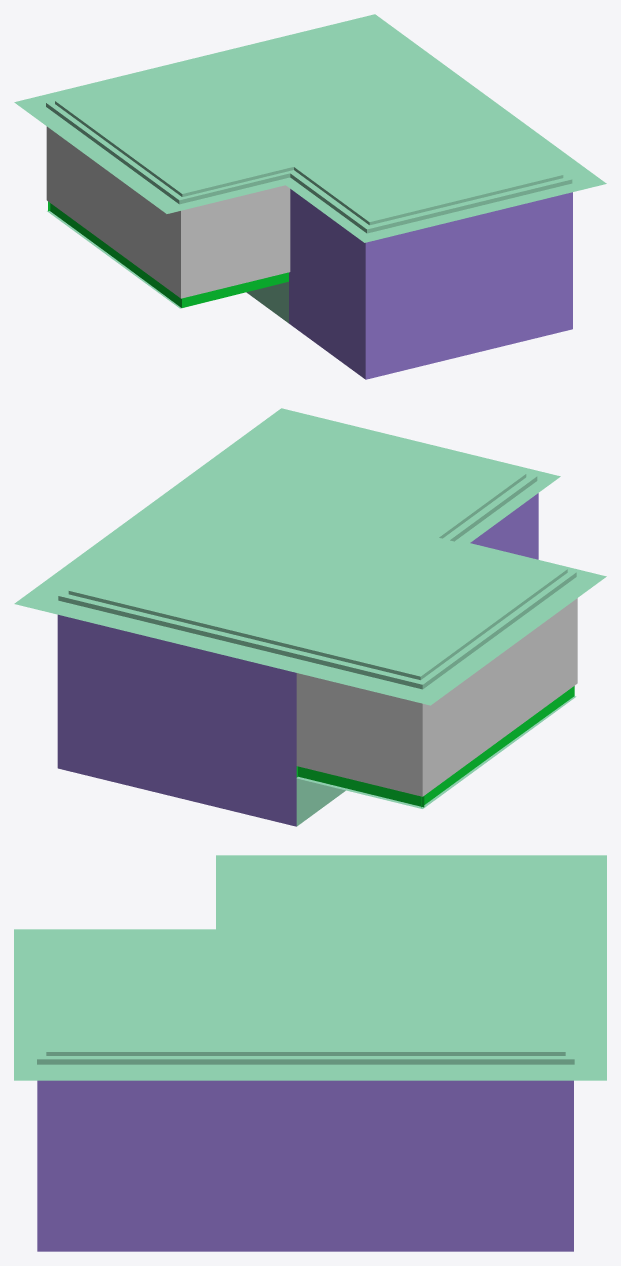
The model's file is piece.fbx.
3 views of the same model, one above another, from view 1: azimuth 30°, elevation 25°; view 2: azimuth 150°, elevation 25°; view 3: azimuth 270°, elevation 25° (orthographic). The views are drawn at different scales.
Parts seen in each view (by area): view 1: pPlane7; view 2: pPlane7; view 3: pPlane7.
Part boxes in pixels (<box>): pPlane7: <box>14,14,606,379</box>; pPlane7: <box>14,408,606,826</box>; pPlane7: <box>14,855,606,1251</box>.
Bounding box in the file's own units: 1101 × 446 × 1224.
